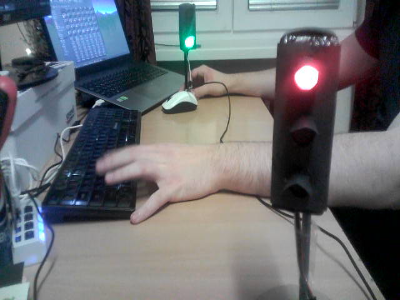trafficlight_green: (182, 6, 197, 50)
trafficlight_red: (277, 40, 327, 211)
